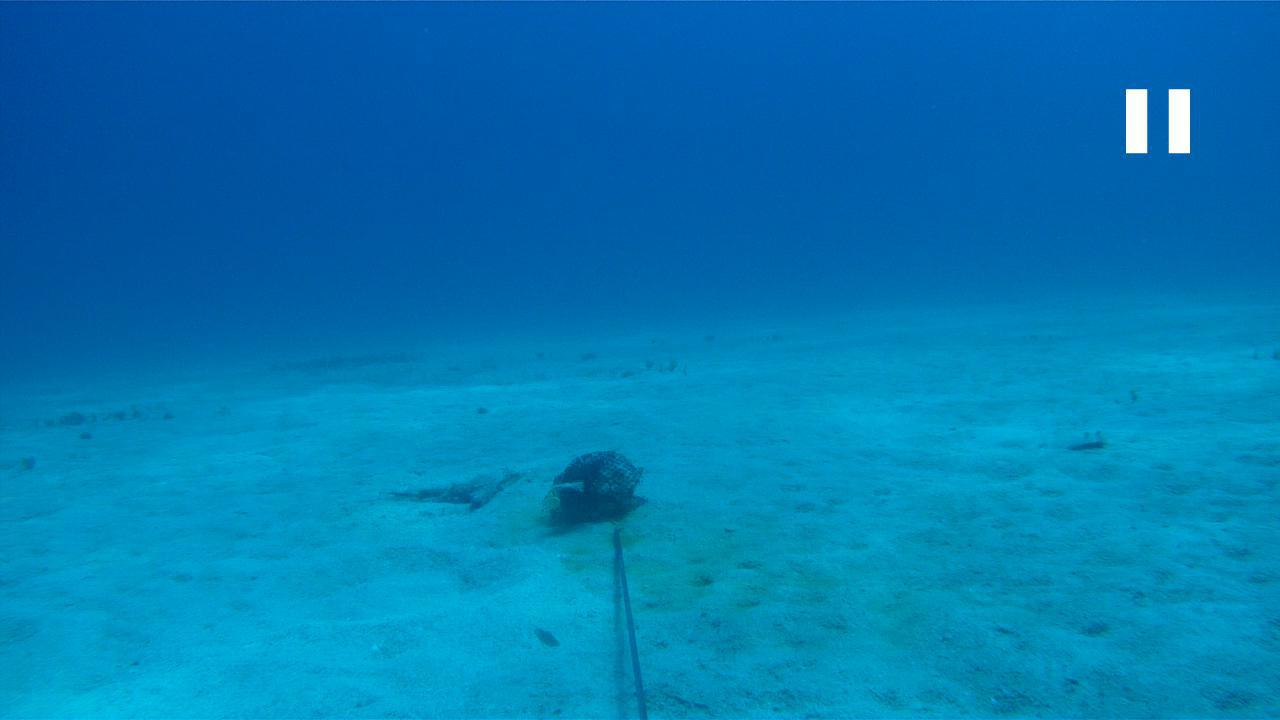bothus: (1050, 426, 1107, 450)
